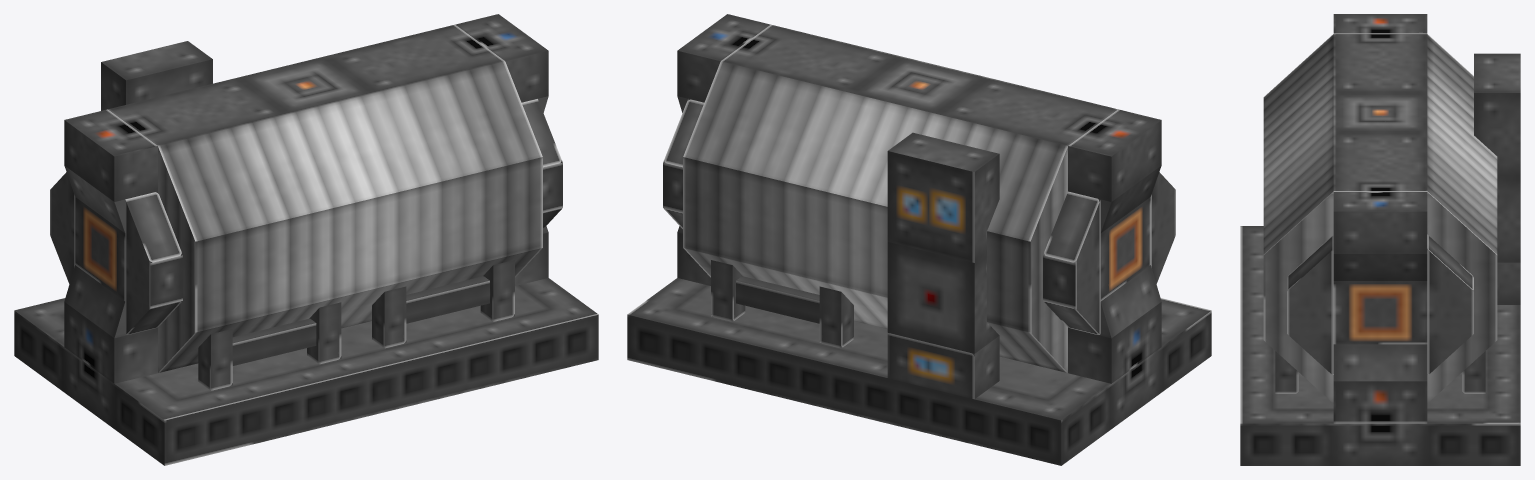
The model's file is heat_exchanger_mirrored.obj.
3 renders of one model, left to right at view 1: azimuth 30°, elevation 25°; view 2: azimuth 150°, elevation 25°; view 3: azimuth 270°, elevation 25°, orthographic. The views are drawn at different scales.
Parts seen in each view (by area): view 1: cube; view 2: cube; view 3: cube.
Part boxes in pixels (x1,y1,x2,y2): cube: (14, 14, 598, 465); cube: (627, 14, 1211, 465); cube: (1240, 14, 1520, 465).
Size of the model in its own units: 5 by 3 by 3.
